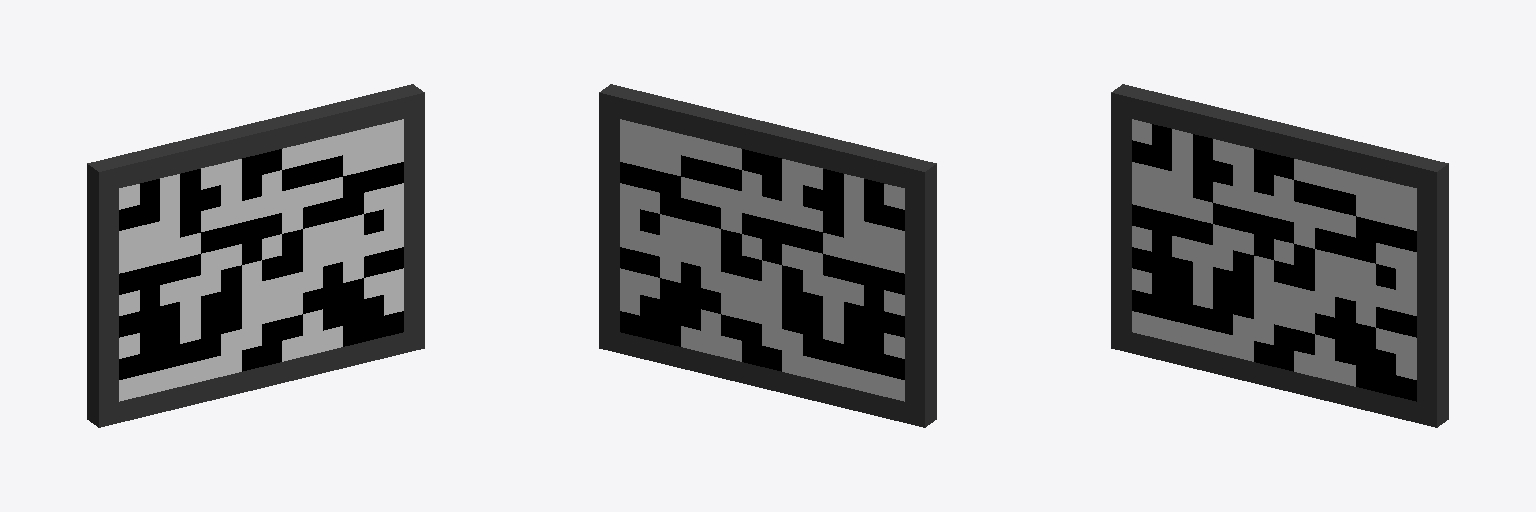
3 views of the same model, side by side, from view 1: azimuth 30°, elevation 25°; view 2: azimuth 150°, elevation 25°; view 3: azimuth 330°, elevation 25° (orthographic).
Visible parts, largest first — view 1: object 1; view 2: object 1; view 3: object 1.
Boxes of the visible parts, box(x1,y1,x2,y2) form: object 1: box(87, 84, 424, 427); object 1: box(599, 84, 936, 427); object 1: box(1111, 84, 1448, 427).
Size of the model in its own units: 1.6 by 1.2 by 0.1.
Materials: 1 (1 with a texture image).